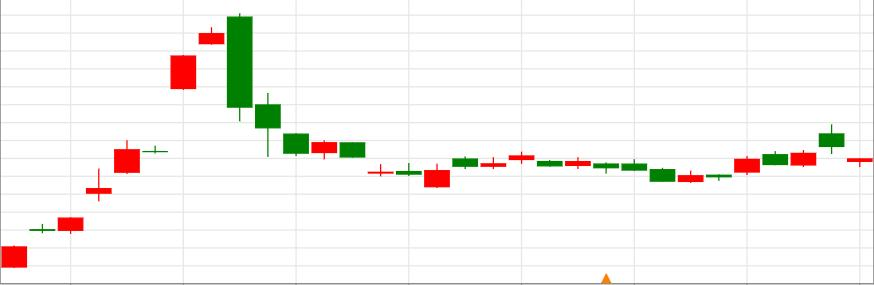bearish_engulfing_fall: (0, 12, 253, 268)
